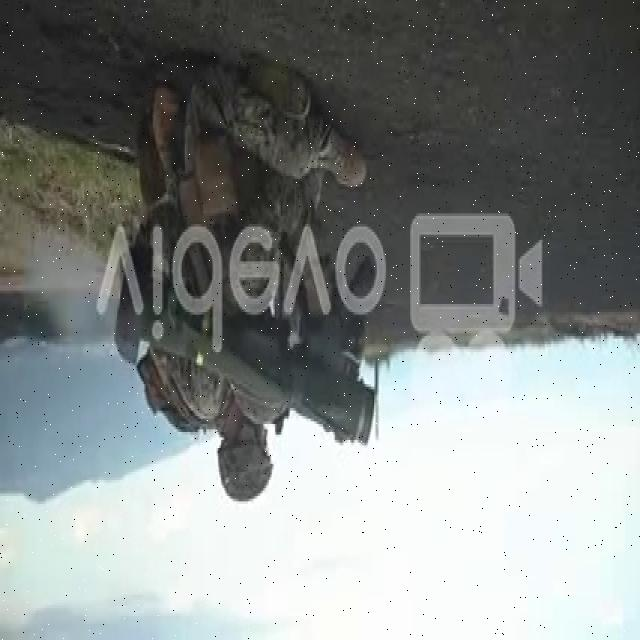bazooka: (111, 234, 380, 453)
